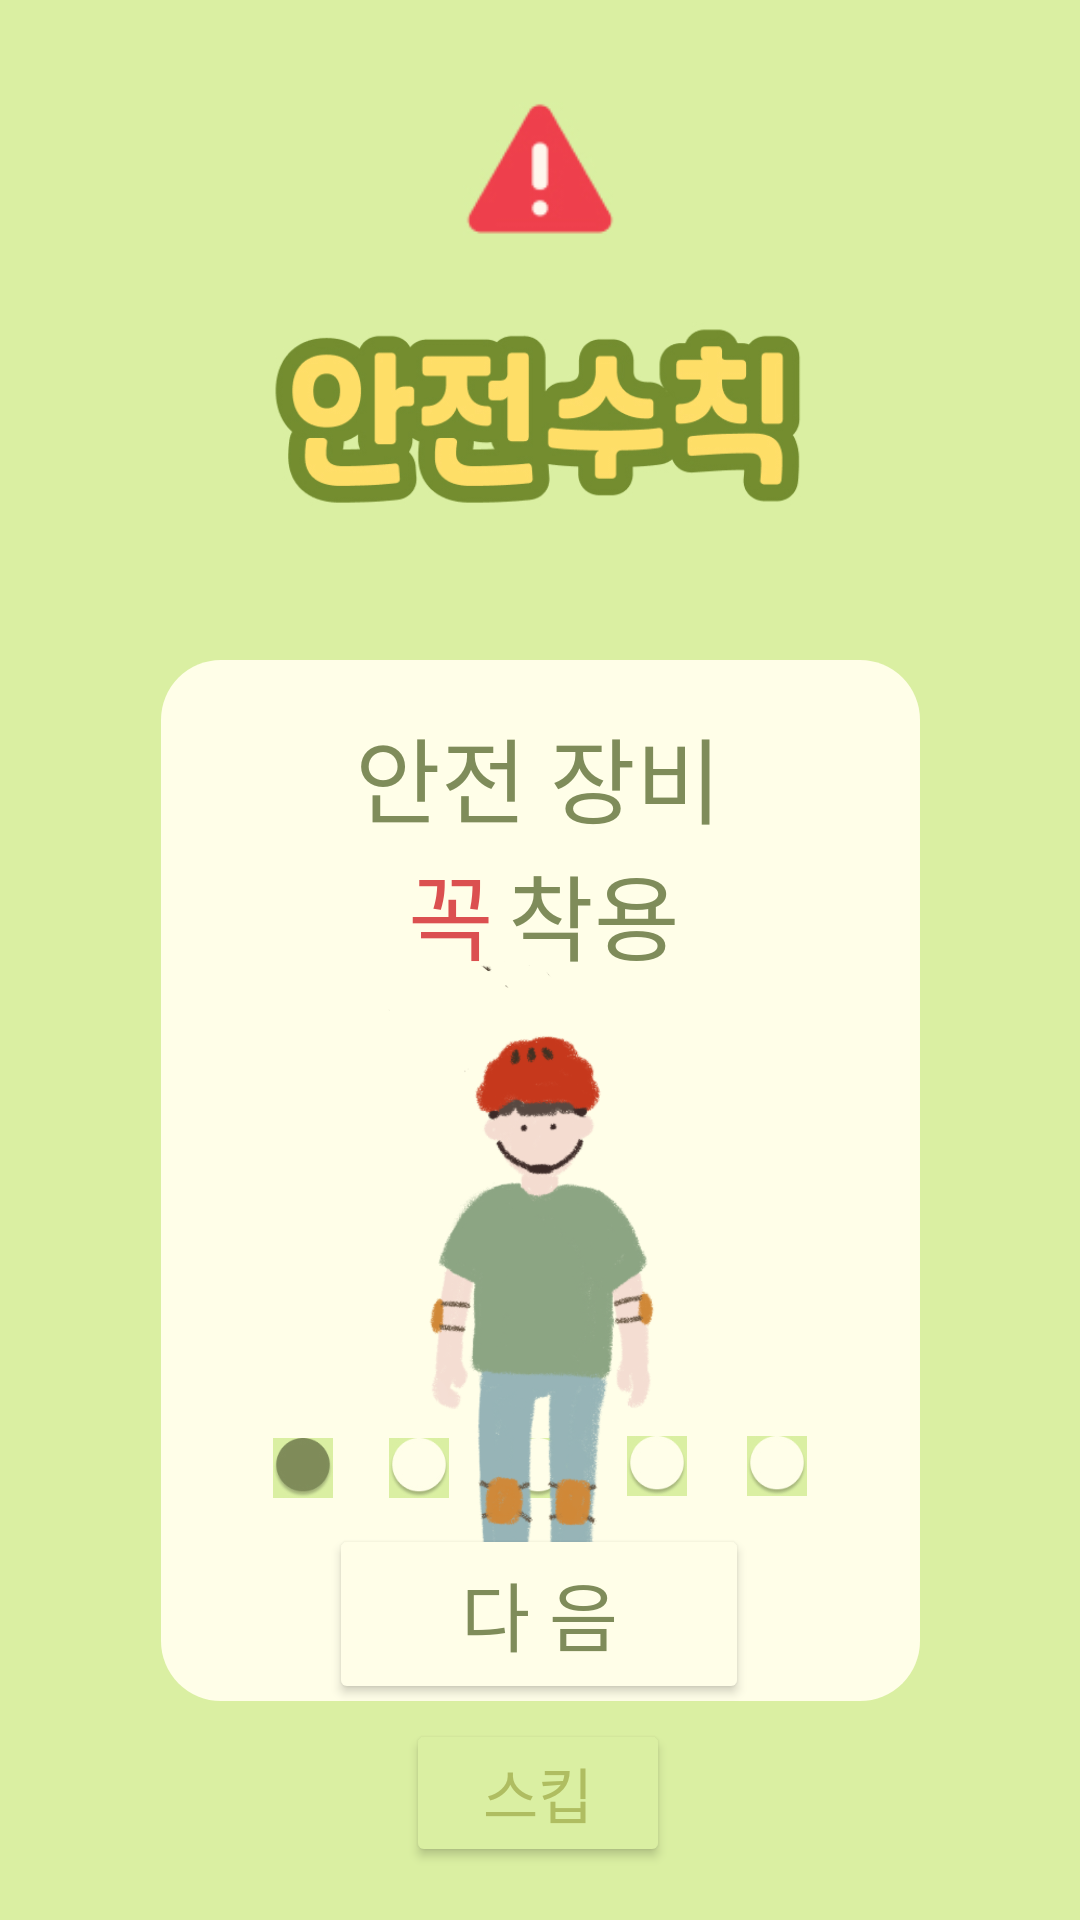

Named icons in this screenshot (1080 x 1920) and their centers, point (x, y):
warning: point (540, 169)
